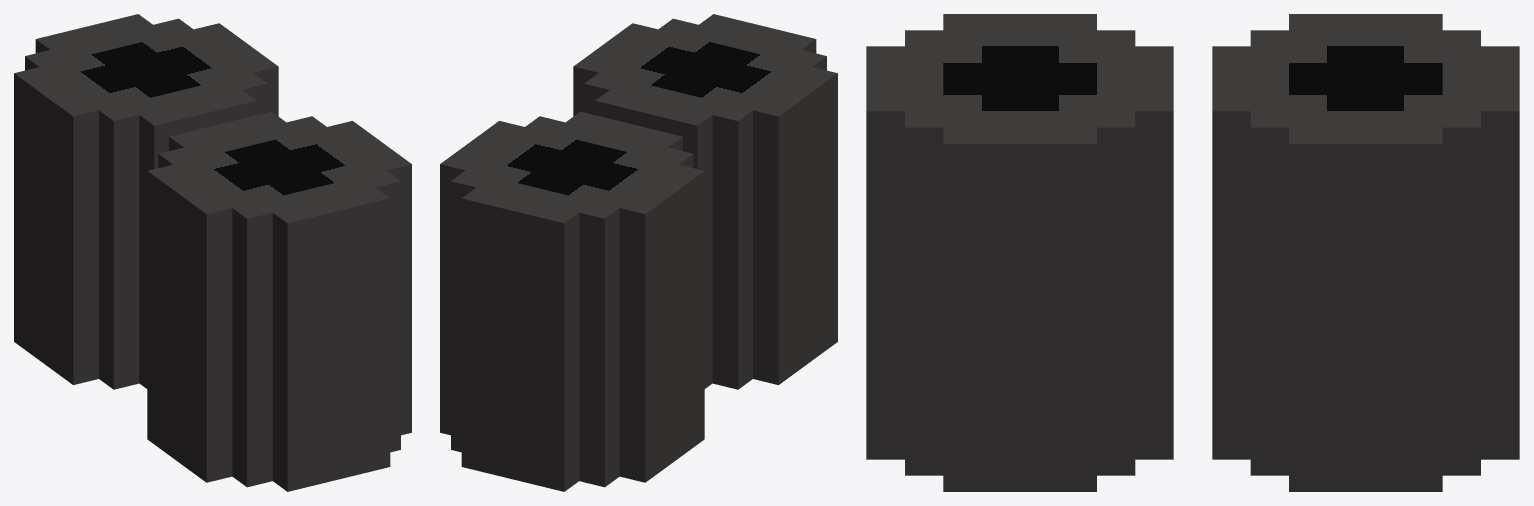
File: cauchos_negros.fbx
3 renders of one model, left to right at view 1: azimuth 30°, elevation 25°; view 2: azimuth 150°, elevation 25°; view 3: azimuth 270°, elevation 25°, orthographic. The views are drawn at different scales.
Parts seen in each view (by area): view 1: cauchos_negros; view 2: cauchos_negros; view 3: cauchos_negros.
Part boxes in pixels (x1,y1,x2,y2): cauchos_negros: [14, 14, 411, 491]; cauchos_negros: [440, 14, 837, 491]; cauchos_negros: [866, 14, 1519, 491].
Size of the model in its own units: 8 by 10 by 17.
